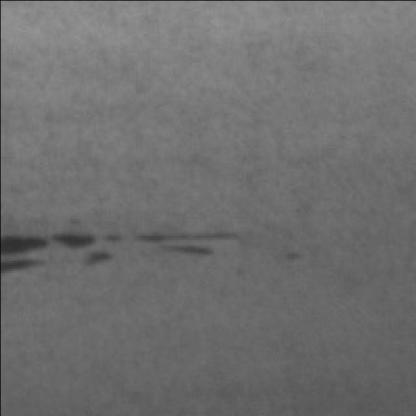inclusion: (0, 225, 252, 285)
